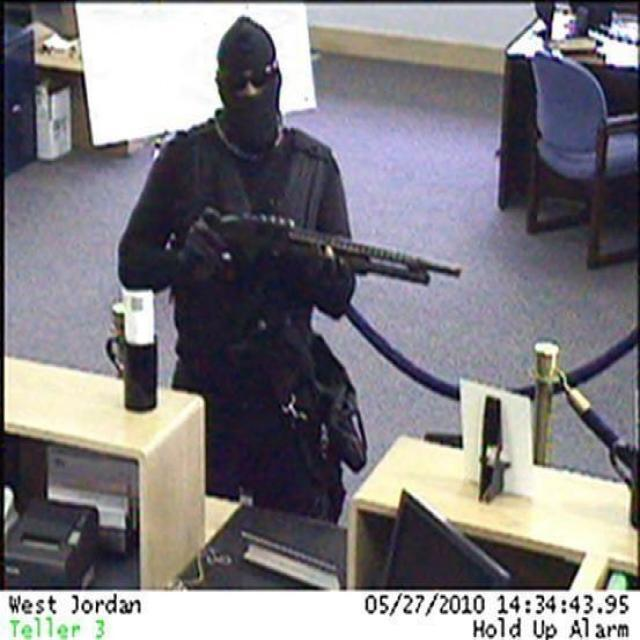gun: (194, 212, 464, 282)
